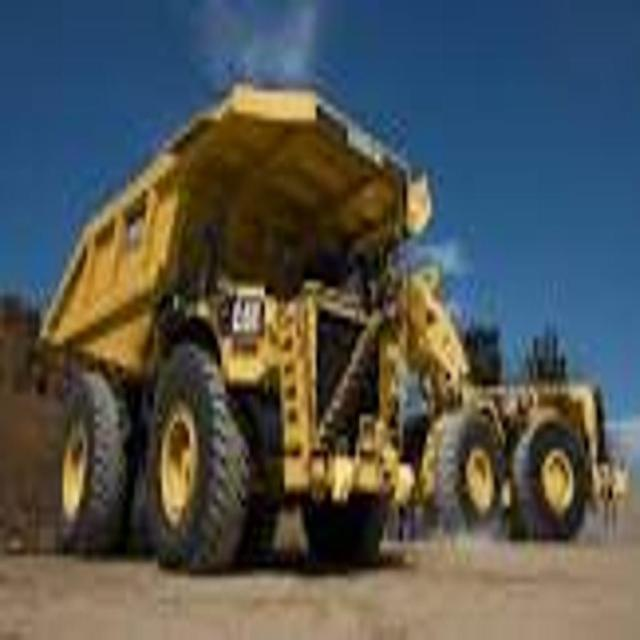dump_truck: (31, 76, 408, 589)
